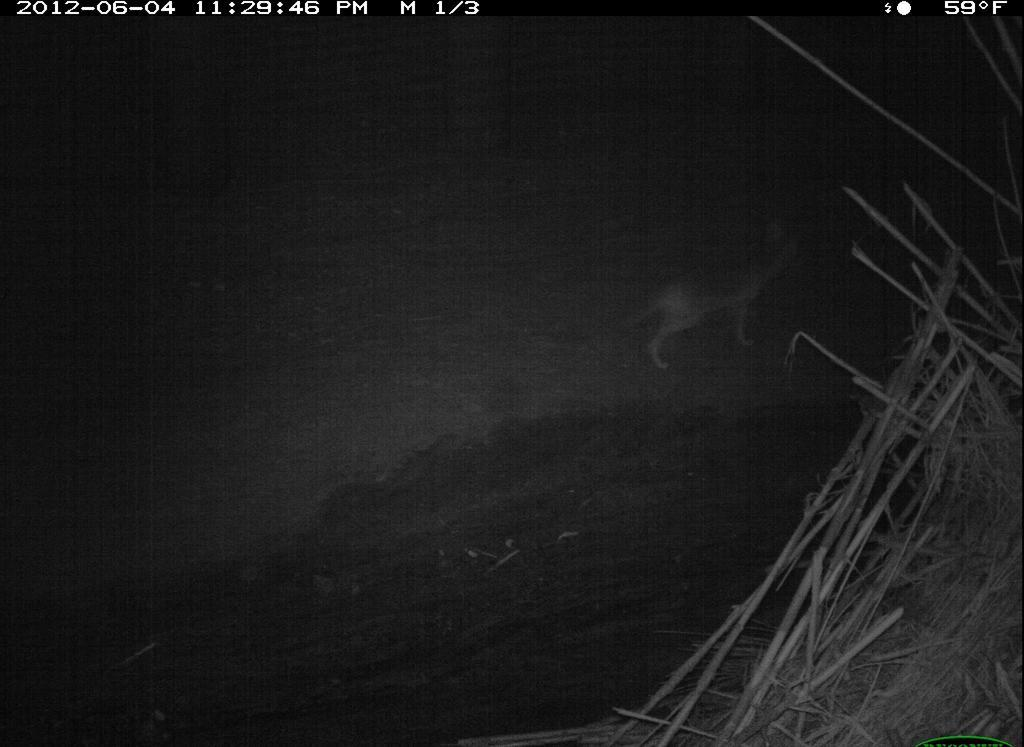coyote: (620, 217, 807, 374)
